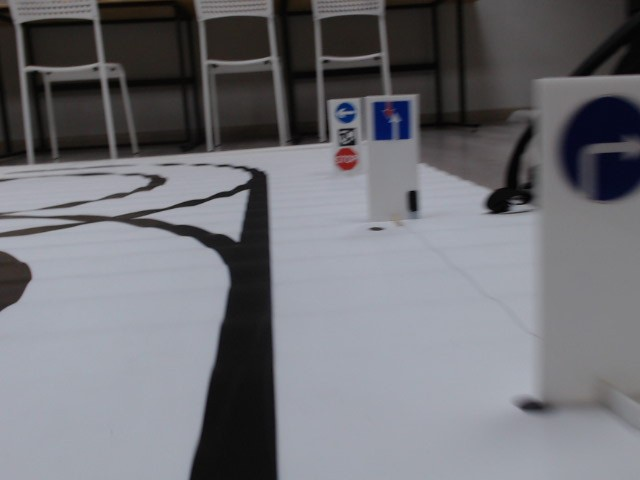Stop: (332, 148, 359, 170)
priority_movement: (370, 100, 415, 141)
